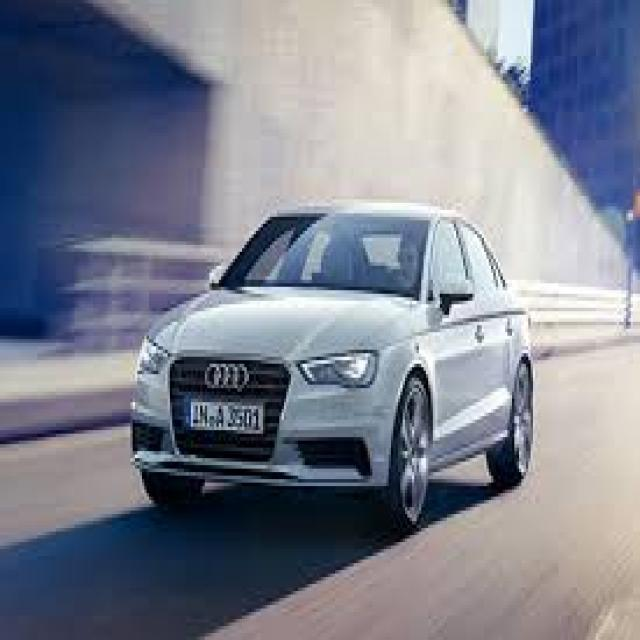Car: (133, 203, 534, 528)
